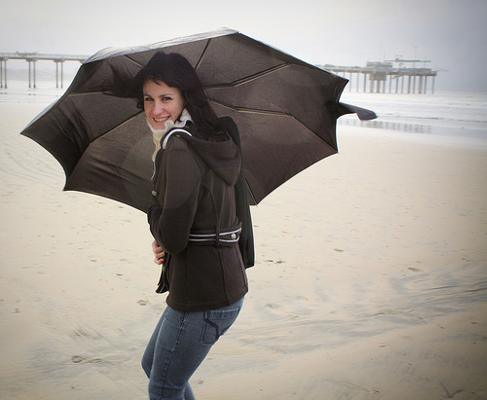person: (136, 52, 248, 400)
